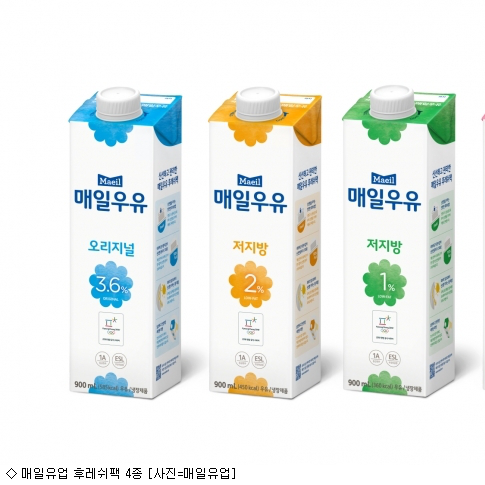milk: (69, 87, 190, 400), (208, 86, 323, 399), (343, 85, 456, 398)
